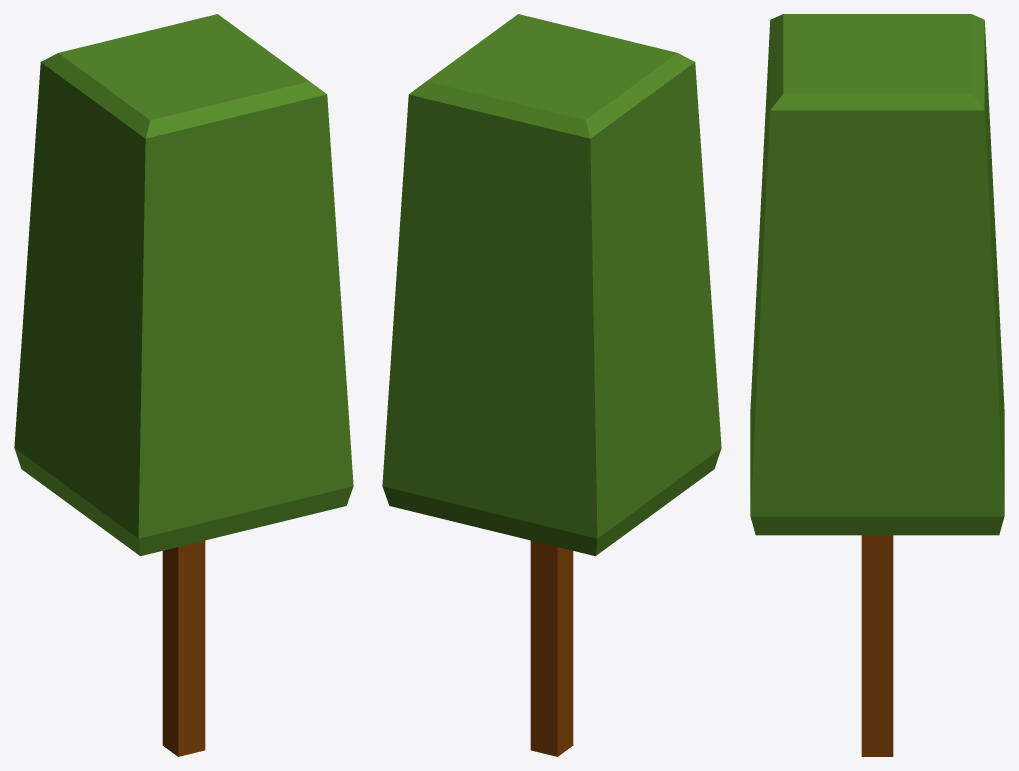
File: Tree_35_Spring.fbx
The picture shows the model from 3 angles, left to right: view 1: azimuth 30°, elevation 25°; view 2: azimuth 150°, elevation 25°; view 3: azimuth 270°, elevation 25°; orthographic projection. The views are drawn at different scales.
Visible parts, largest first — view 1: Tree_35_Spring; view 2: Tree_35_Spring; view 3: Tree_35_Spring.
Part boxes in pixels (x1,y1,x2,y2): Tree_35_Spring: [14, 14, 353, 756]; Tree_35_Spring: [382, 14, 721, 756]; Tree_35_Spring: [750, 14, 1004, 756].
Size of the model in its own units: 113 by 342 by 113.
